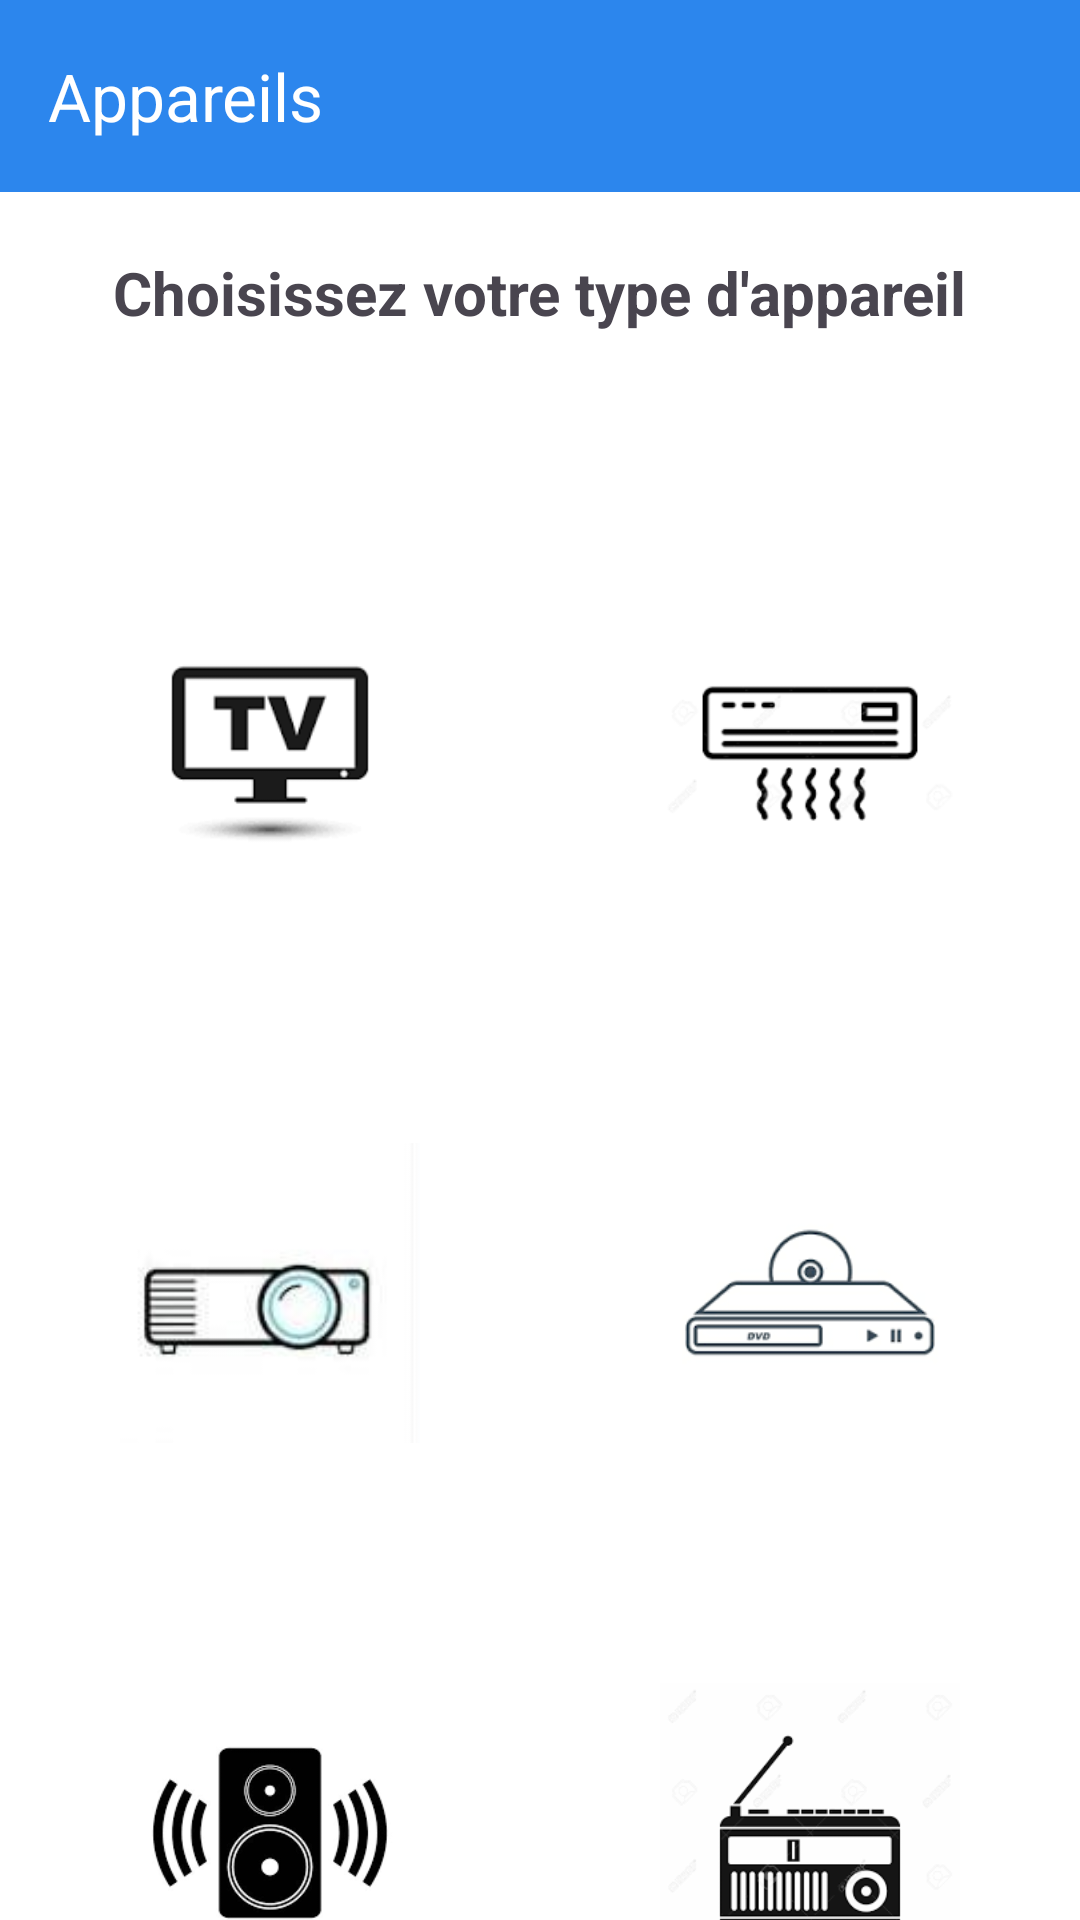

Screen size 1080w x 1920h. Icon name, then its box in pixels as [left=x1, top=y1, right=x2, bottom=y2]:
clim: [left=702, top=686, right=918, bottom=821]
projecteur: [left=144, top=1263, right=371, bottom=1356]
